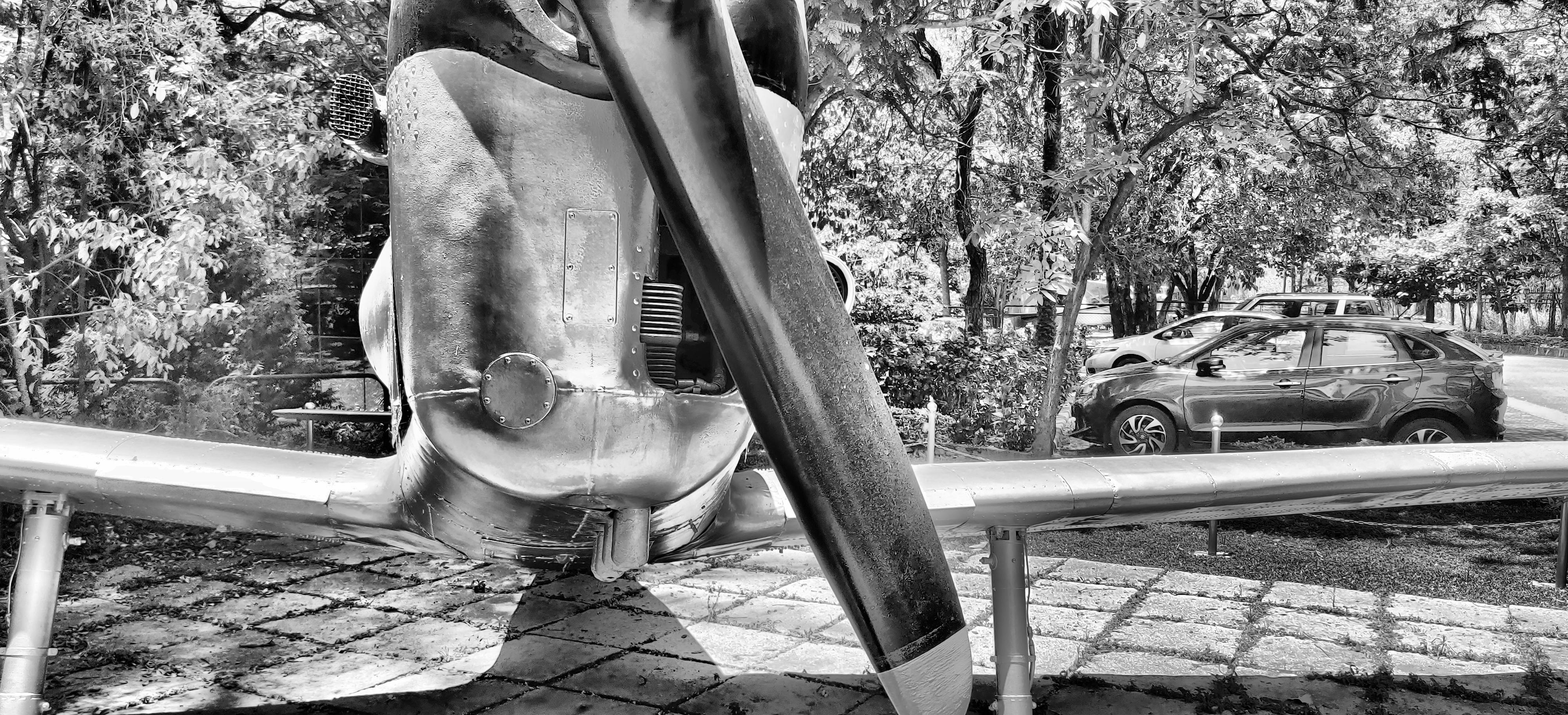crack: (434, 492, 510, 532), (323, 490, 332, 508)
dent: (339, 516, 440, 544), (620, 351, 664, 405), (546, 357, 611, 390), (671, 394, 722, 434), (332, 527, 404, 551), (520, 44, 568, 76), (567, 490, 626, 510), (434, 376, 473, 404), (164, 502, 241, 516), (1330, 492, 1386, 504), (753, 521, 786, 534), (1397, 489, 1434, 500), (418, 441, 432, 455), (416, 450, 429, 465), (1112, 496, 1123, 501), (1103, 473, 1110, 479)
scratch: (454, 344, 459, 357)
